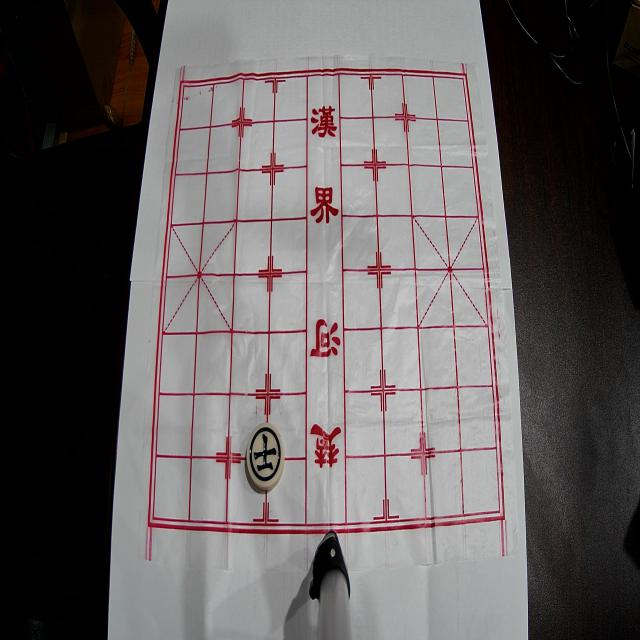black-guard: (247, 423, 284, 490)
